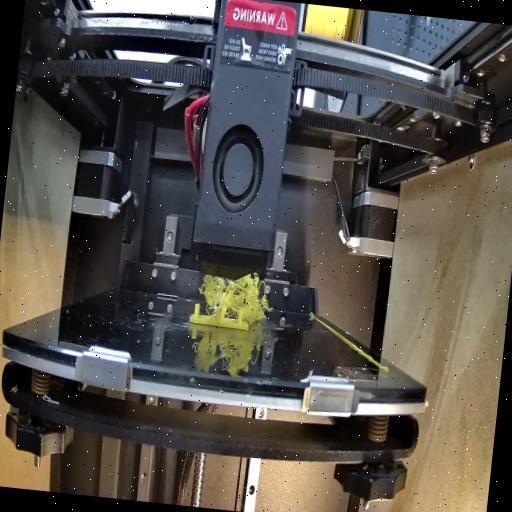spaghetti: (202, 267, 274, 324)
